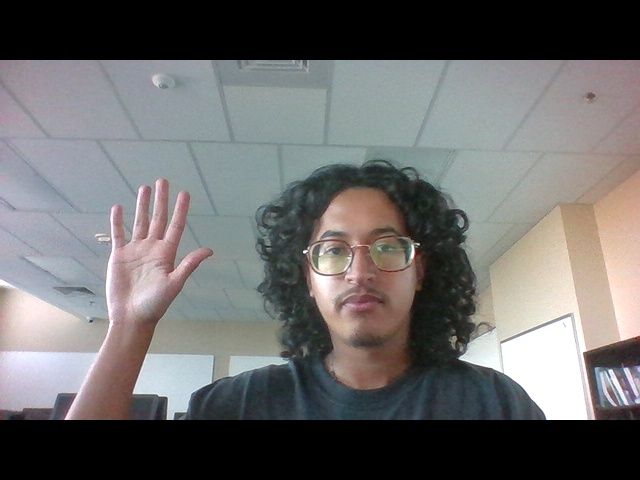hello: (96, 174, 220, 332)
